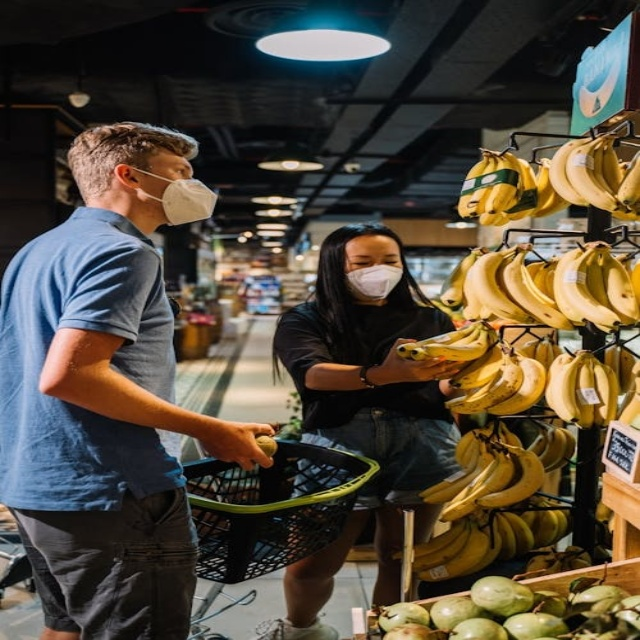Mascara: (128, 165, 218, 226), (342, 264, 404, 301)
Sin_gafas: (147, 160, 193, 178), (349, 253, 406, 267)
Sin_guantes: (187, 411, 284, 473), (376, 337, 460, 385)
